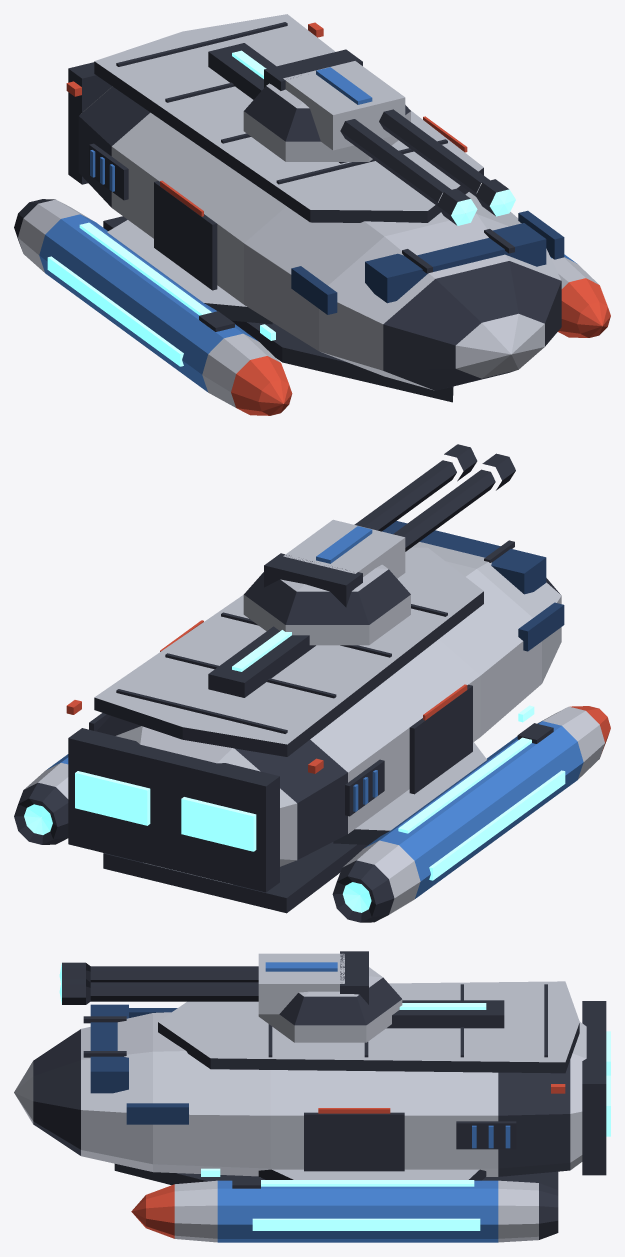
The model's file is rts.gunship.glb.
The picture shows the model from 3 angles, top to bottom: view 1: azimuth 30°, elevation 25°; view 2: azimuth 150°, elevation 25°; view 3: azimuth 270°, elevation 25°; orthographic projection. The views are drawn at different scales.
Parts seen in each view (by area): view 1: rts.gunship; view 2: rts.gunship; view 3: rts.gunship.
Part boxes in pixels (<box>): rts.gunship: <box>14,14,610,415</box>; rts.gunship: <box>14,444,610,922</box>; rts.gunship: <box>14,951,610,1242</box>.
Bounding box in the file's own units: 1.6 × 0.9486 × 2.49.
